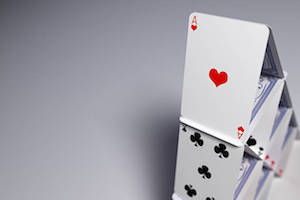AceOfHearts: (179, 10, 272, 144)
